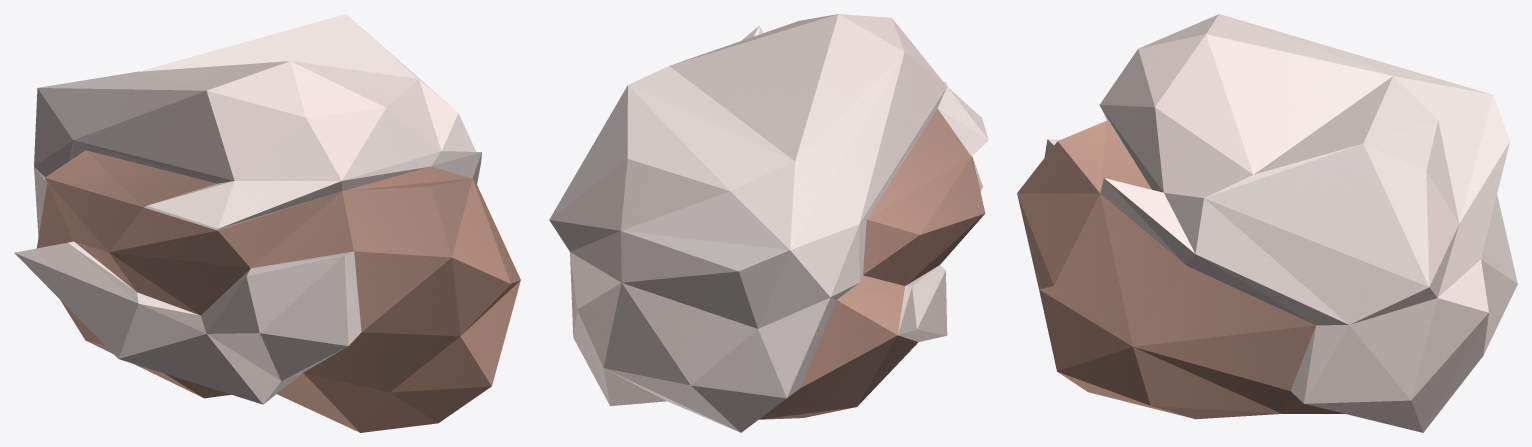
File: Rock_Medium_3A.fbx
The picture shows the model from 3 angles, left to right: view 1: azimuth 30°, elevation 25°; view 2: azimuth 150°, elevation 25°; view 3: azimuth 270°, elevation 25°; orthographic projection. The views are drawn at different scales.
Visible parts, largest first — view 1: Group64597; view 2: Group64597; view 3: Group64597.
Part boxes in pixels (x1,y1,x2,y2): Group64597: (14, 14, 520, 432); Group64597: (549, 14, 988, 432); Group64597: (1017, 14, 1517, 432).
Bounding box in the file's own units: 4.16 × 3.76 × 5.01.
Materials: 1 (1 with a texture image).
